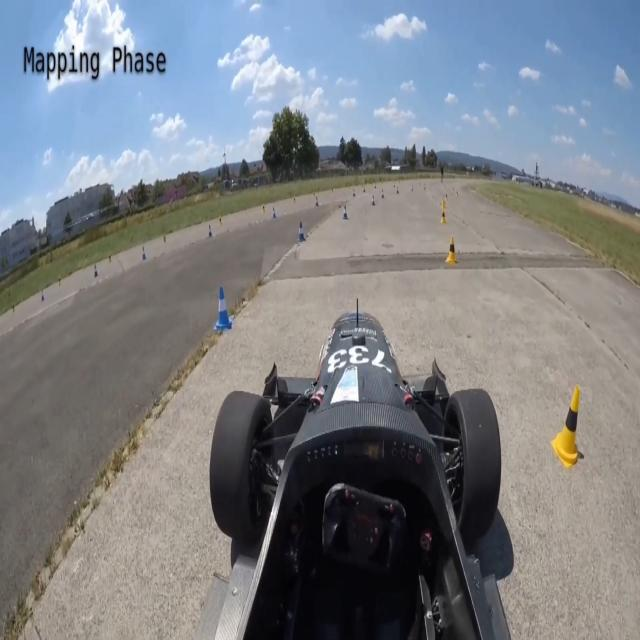blue_cone: (214, 284, 234, 333), (297, 220, 307, 243), (342, 204, 349, 222), (140, 248, 147, 262), (207, 225, 213, 239), (39, 290, 45, 304), (370, 194, 376, 207), (314, 195, 320, 208), (272, 205, 277, 219), (380, 189, 386, 199), (94, 264, 98, 279), (352, 188, 357, 198)
yellow_cone: (552, 387, 587, 470), (444, 235, 459, 265), (439, 210, 448, 224), (261, 203, 266, 216), (11, 301, 16, 314), (441, 199, 447, 209), (218, 215, 223, 227), (57, 275, 62, 287), (163, 232, 167, 244), (108, 252, 112, 264), (293, 195, 296, 205)
